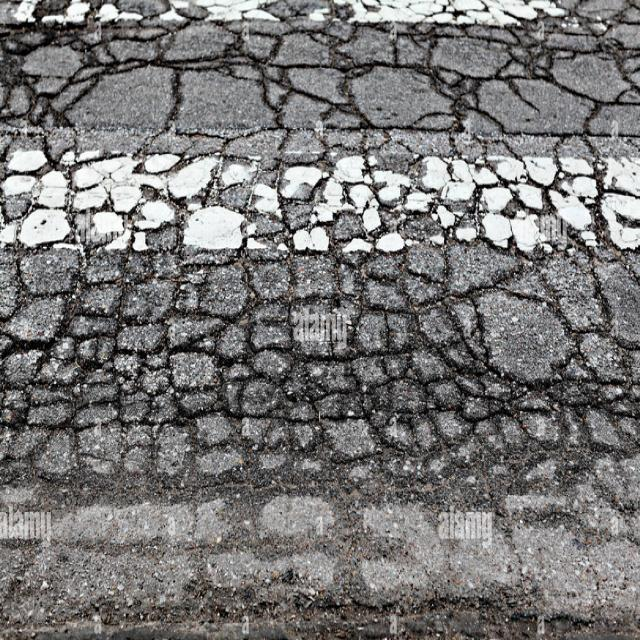Drain Hole: (61, 232, 640, 544)
